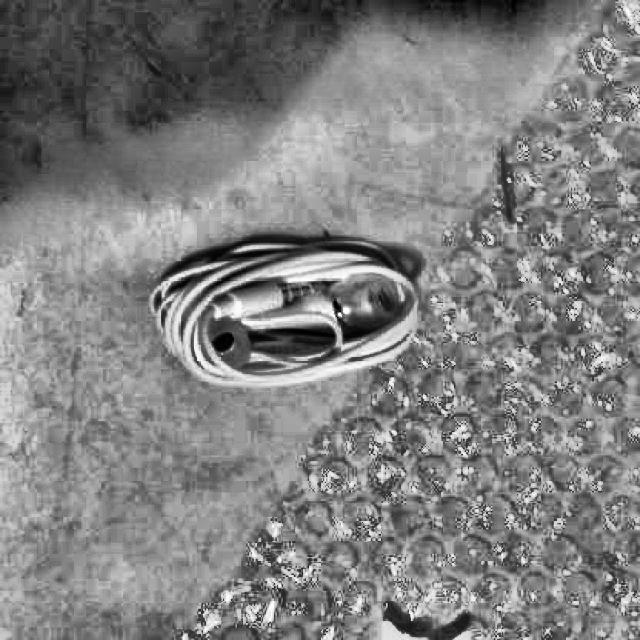Cable: (154, 231, 420, 386)
